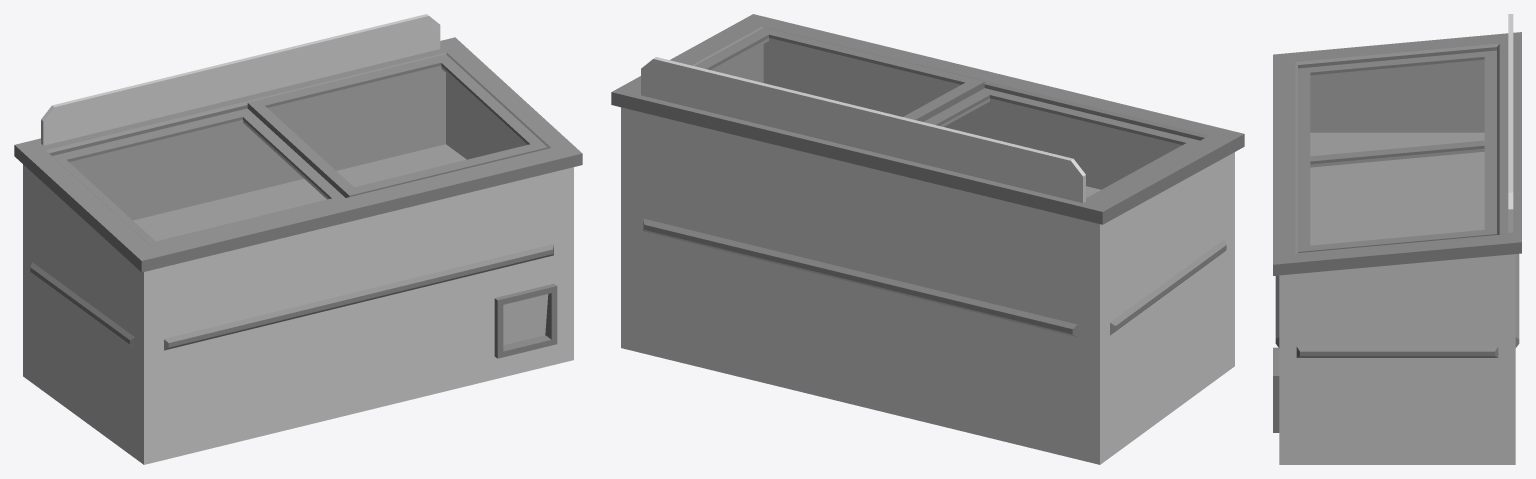
Rendered from Freezer01.fbx.
3 views of the same model, side by side, from view 1: azimuth 30°, elevation 25°; view 2: azimuth 150°, elevation 25°; view 3: azimuth 270°, elevation 25° (orthographic). The views are drawn at different scales.
Parts seen in each view (by area): view 1: Freezer01, Door_Right, Door_Left; view 2: Freezer01, Door_Right, Door_Left; view 3: Freezer01, Door_Right, Door_Left.
Boxes of the visible parts, <box> form: Freezer01: <box>14,14,582,464</box>; Door_Right: <box>247,54,547,197</box>; Door_Left: <box>52,108,344,245</box>; Freezer01: <box>611,14,1244,464</box>; Door_Right: <box>694,28,984,121</box>; Door_Left: <box>924,88,1199,199</box>; Freezer01: <box>1273,14,1521,464</box>; Door_Right: <box>1298,139,1496,252</box>; Door_Left: <box>1298,50,1496,167</box>.
Bounding box in the file's own units: 2 × 1.15 × 1.
